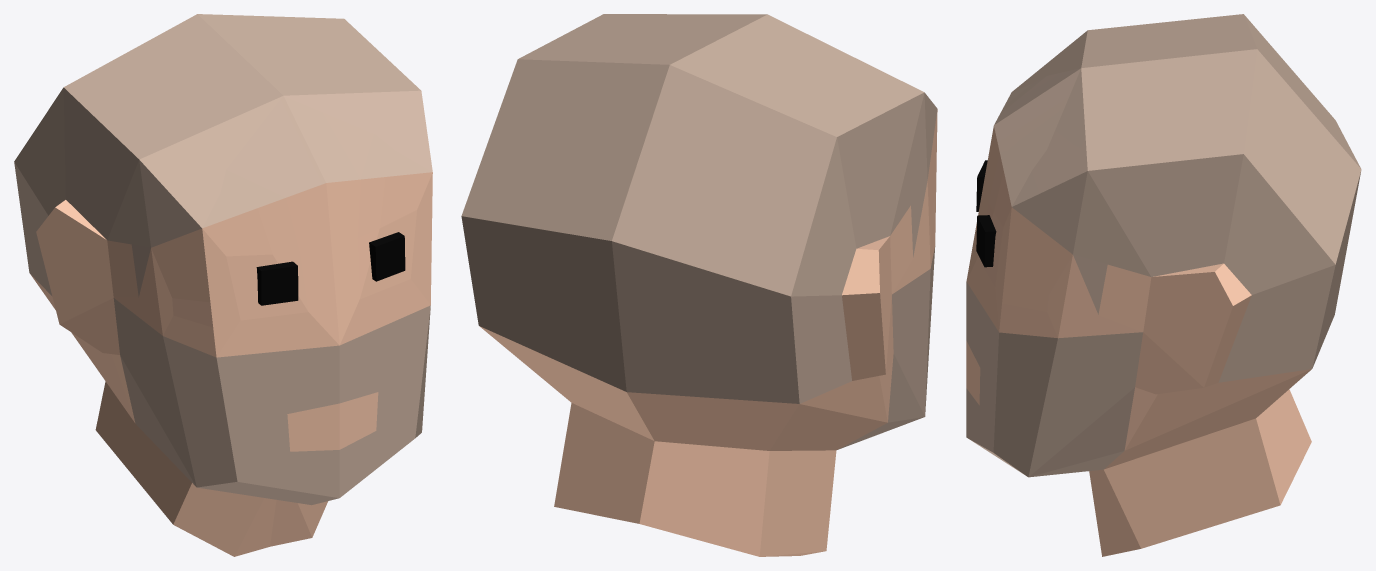
Rendered from Chr_Head_Male_19_Static.fbx.
The picture shows the model from 3 angles, left to right: view 1: azimuth 30°, elevation 25°; view 2: azimuth 150°, elevation 25°; view 3: azimuth 270°, elevation 25°; orthographic projection. The views are drawn at different scales.
Visible parts, largest first — view 1: Chr_Head_Male_19_Static; view 2: Chr_Head_Male_19_Static; view 3: Chr_Head_Male_19_Static.
Part boxes in pixels (x1,y1,x2,y2): Chr_Head_Male_19_Static: (14,14,432,556); Chr_Head_Male_19_Static: (461,14,937,556); Chr_Head_Male_19_Static: (966,14,1361,556).
Size of the model in its own units: 0.2661 by 0.3523 by 0.2574.
